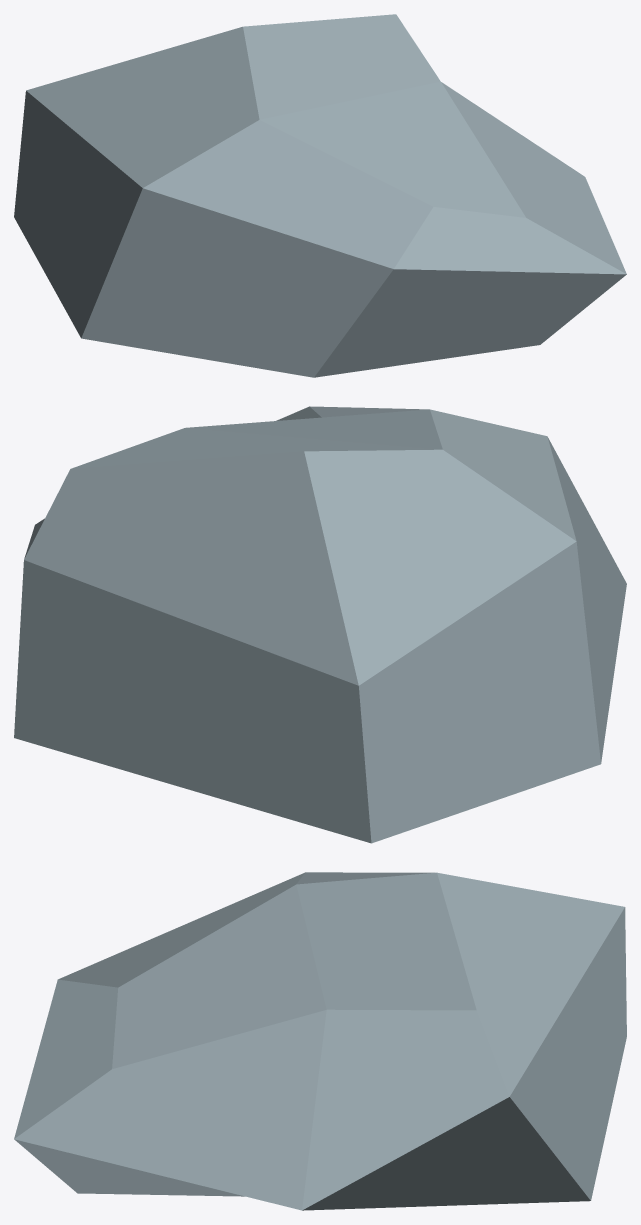
The model's file is Stein3.fbx.
The picture shows the model from 3 angles, top to bottom: view 1: azimuth 30°, elevation 25°; view 2: azimuth 150°, elevation 25°; view 3: azimuth 270°, elevation 25°; orthographic projection. The views are drawn at different scales.
Visible parts, largest first — view 1: Stein3; view 2: Stein3; view 3: Stein3.
Part boxes in pixels (x1,y1,x2,y2): Stein3: (14,14,626,377); Stein3: (14,406,626,843); Stein3: (14,872,626,1210).
Size of the model in its own units: 0.9603 by 0.4454 by 0.9714.
